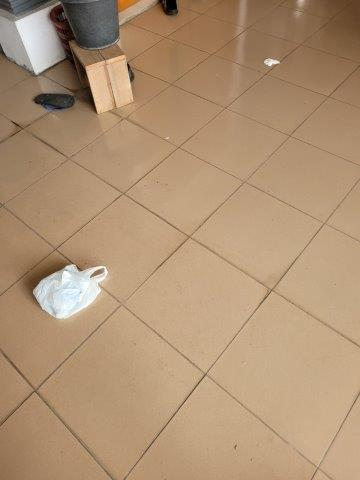plastik: (30, 263, 106, 315)
